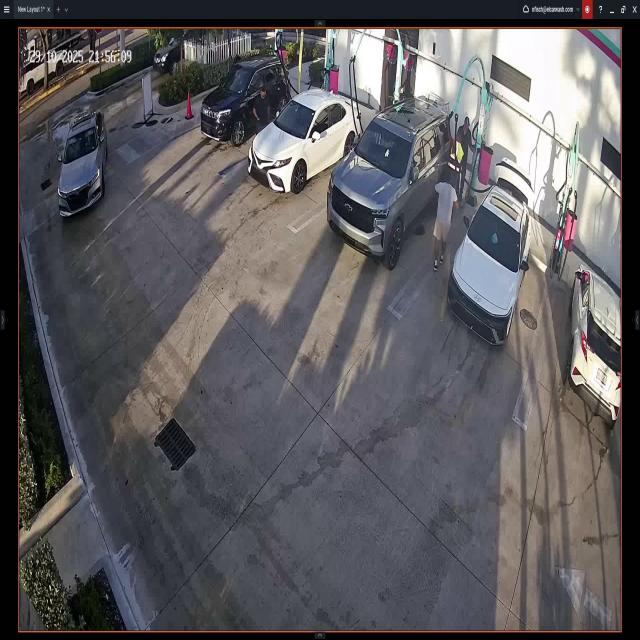Car: (327, 97, 453, 271), (444, 154, 530, 341), (249, 90, 361, 194), (564, 264, 621, 417), (194, 57, 292, 143), (57, 112, 110, 218)
